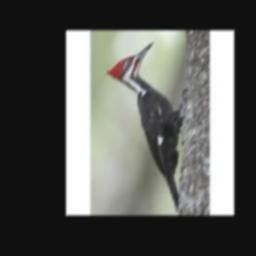Woodpecker: (105, 42, 184, 212)
